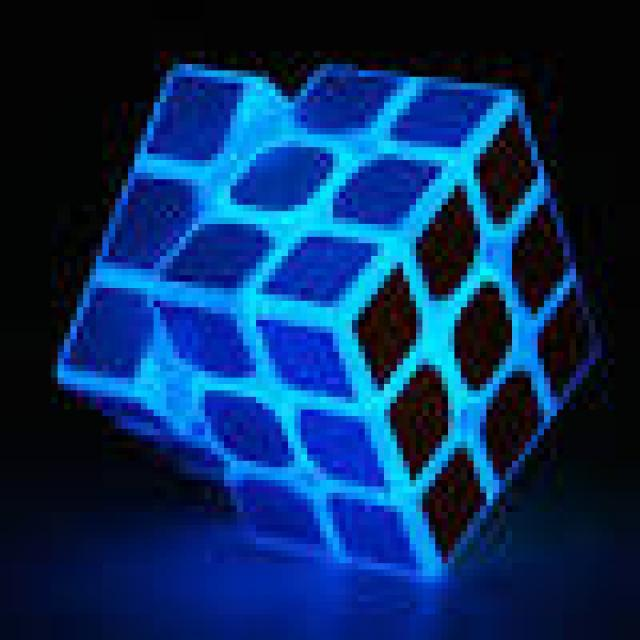Rub: (58, 61, 608, 584)
